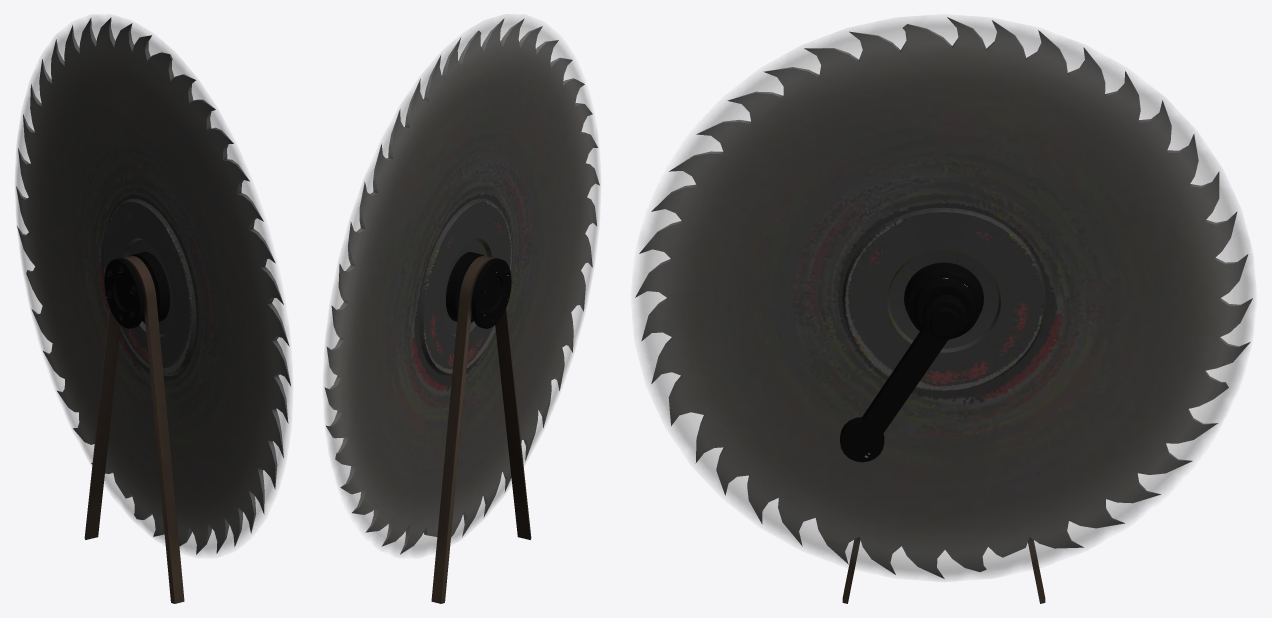
The picture shows the model from 3 angles, left to right: view 1: azimuth 30°, elevation 25°; view 2: azimuth 150°, elevation 25°; view 3: azimuth 270°, elevation 25°; orthographic projection. The views are drawn at different scales.
Visible parts, largest first — view 1: body0_model0_lod0_mesh0, body0_model0_lod0_mesh2, body0_model0_lod0_mesh1; view 2: body0_model0_lod0_mesh0, body0_model0_lod0_mesh2, body0_model0_lod0_mesh1; view 3: body0_model0_lod0_mesh0, body0_model0_lod0_mesh2, body0_model0_lod0_mesh1.
Part boxes in pixels (left/top/right/bottom): body0_model0_lod0_mesh0: left=16, top=17, right=291, bottom=554; body0_model0_lod0_mesh2: left=15, top=16, right=290, bottom=555; body0_model0_lod0_mesh1: left=84, top=256, right=184, bottom=603; body0_model0_lod0_mesh0: left=324, top=18, right=599, bottom=554; body0_model0_lod0_mesh2: left=324, top=16, right=599, bottom=555; body0_model0_lod0_mesh1: left=431, top=256, right=531, bottom=603; body0_model0_lod0_mesh0: left=635, top=17, right=1252, bottom=578; body0_model0_lod0_mesh2: left=635, top=17, right=1254, bottom=579; body0_model0_lod0_mesh1: left=842, top=537, right=1045, bottom=603.
Size of the model in its own units: 32.26 by 202 by 192.
Materials: 3 (3 with a texture image).
